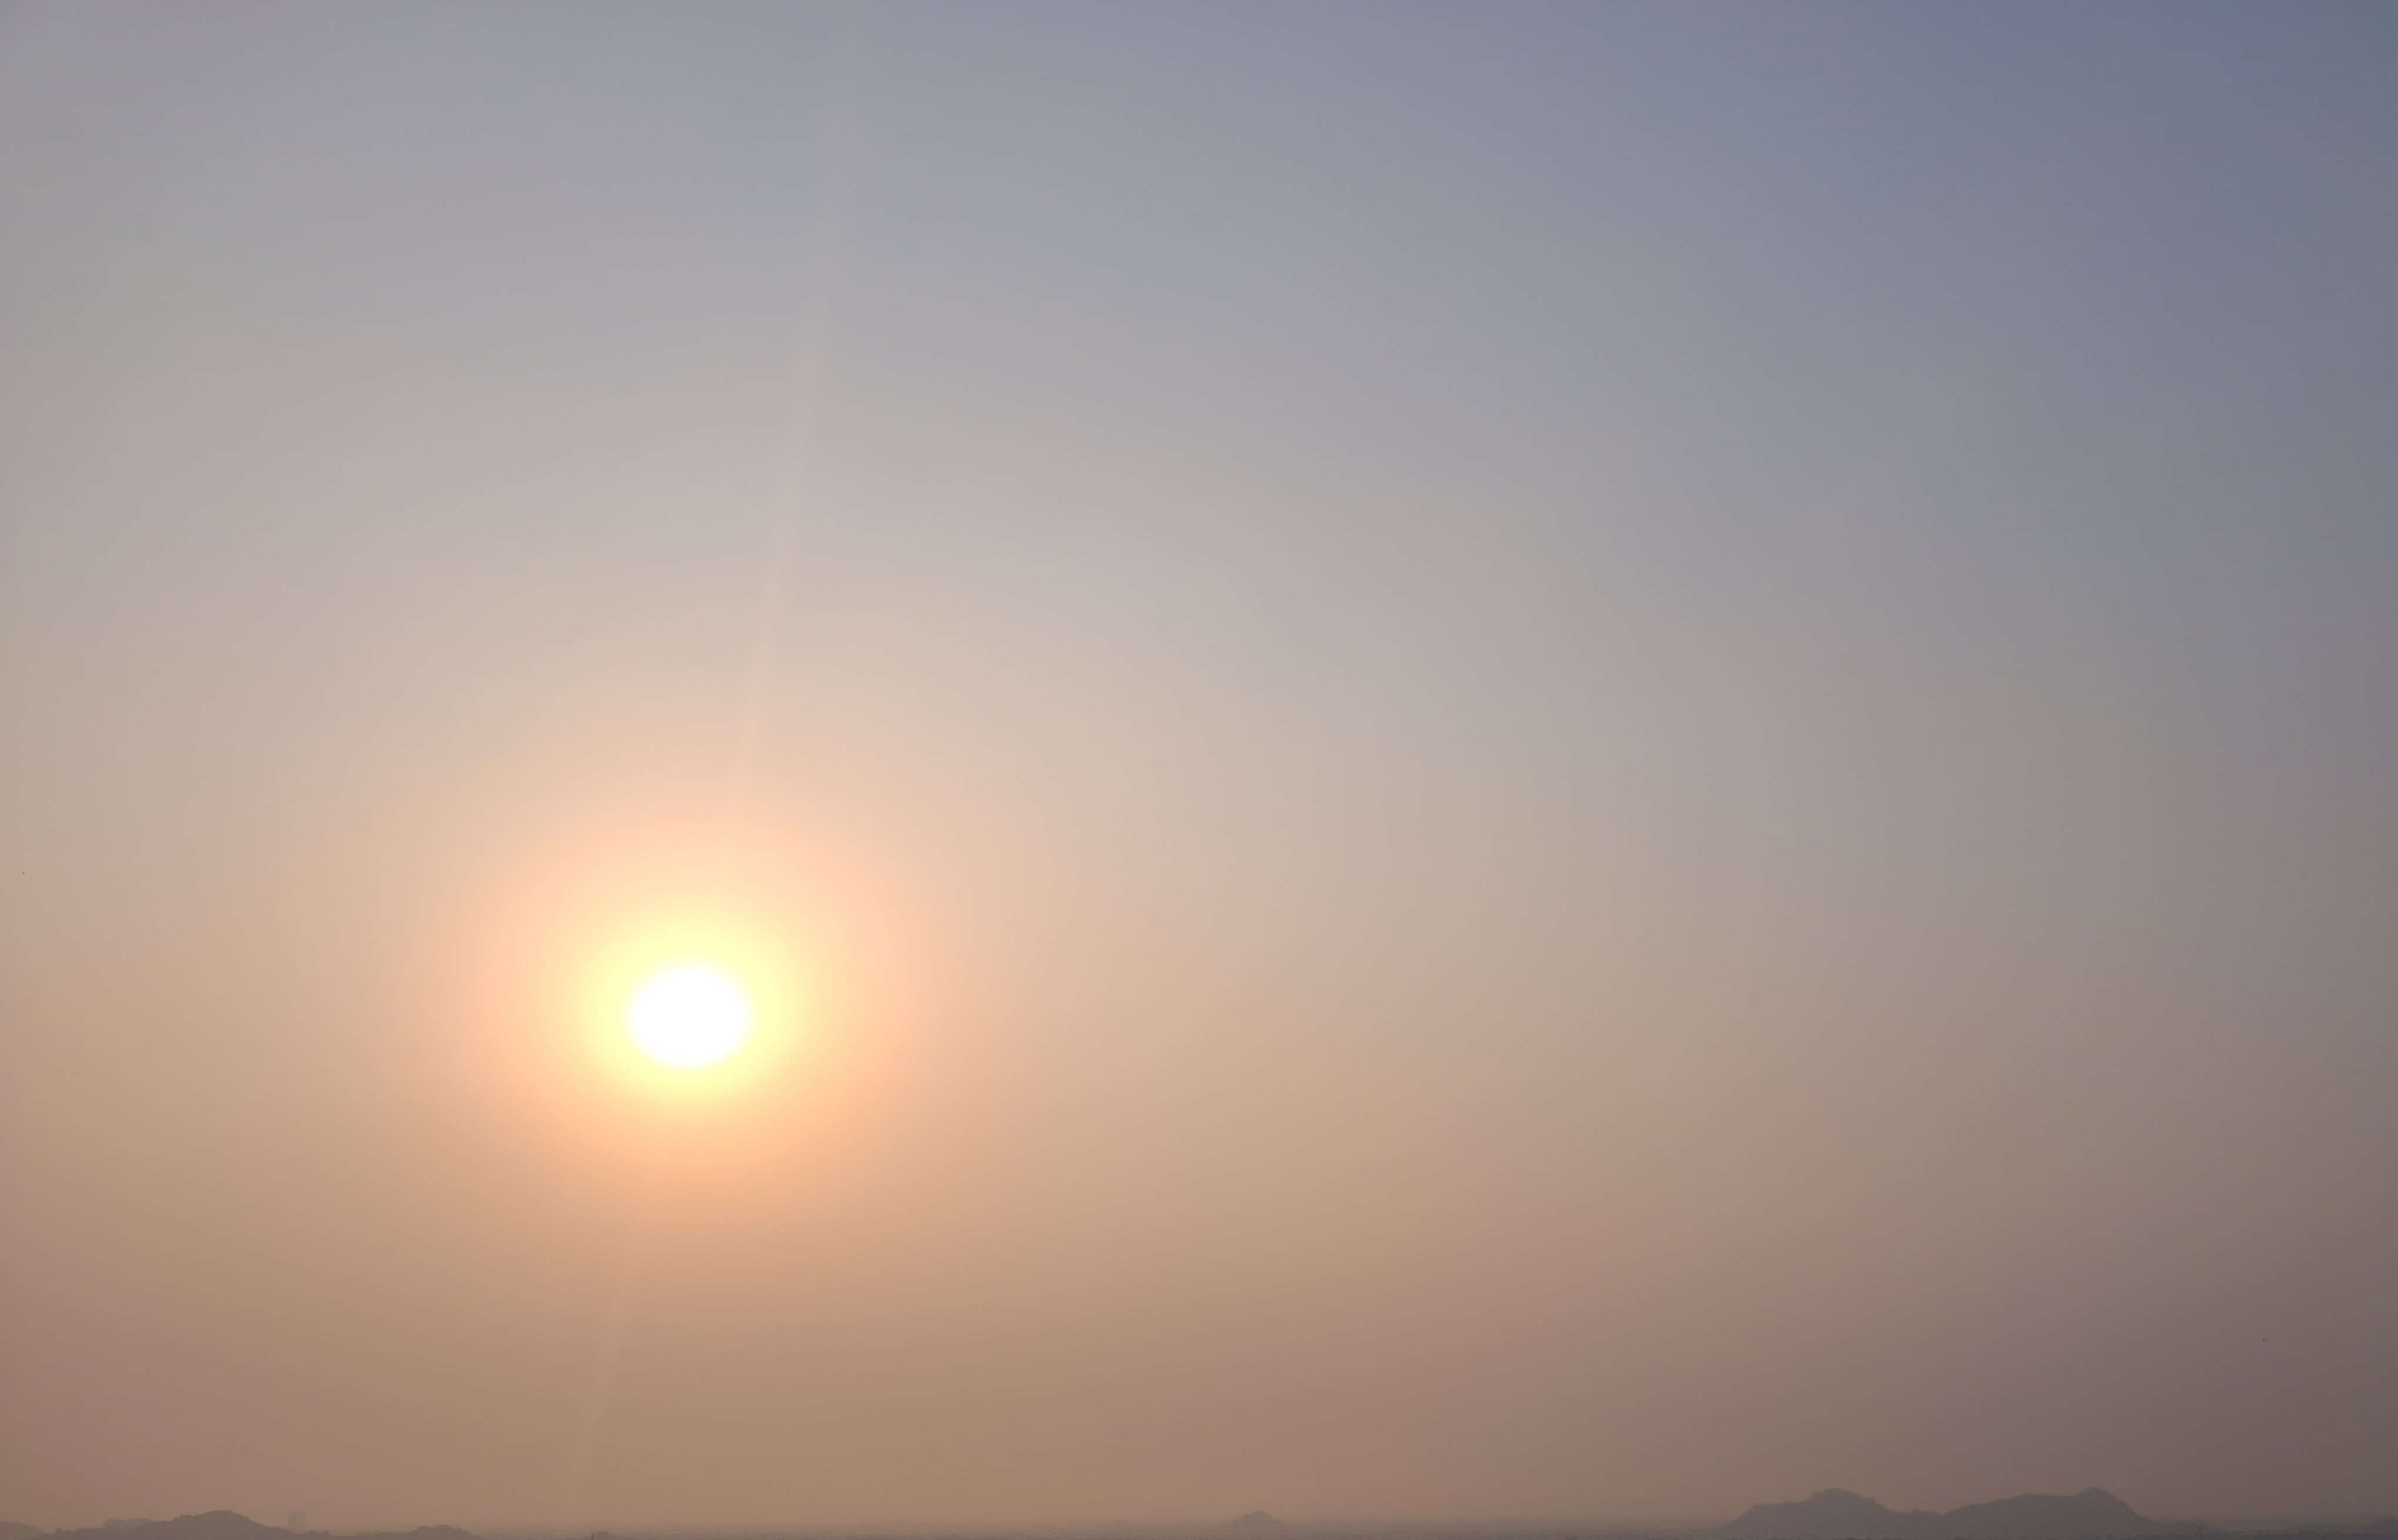sun: (565, 932, 795, 1089)
